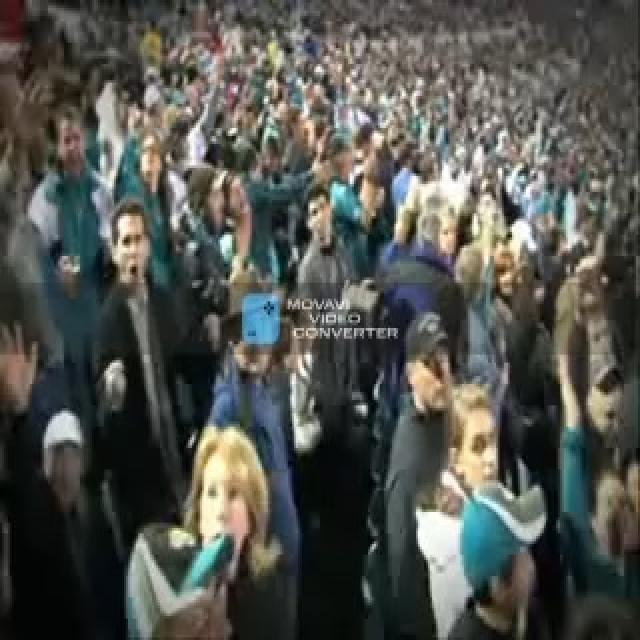non-voilence: (0, 0, 638, 637), (88, 198, 192, 542), (122, 422, 284, 638)
